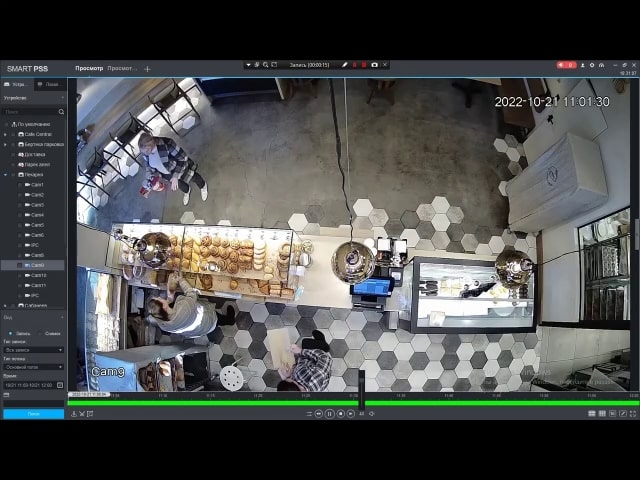barcounter: (82, 221, 538, 334)
person: (132, 134, 216, 204), (141, 290, 244, 345)
